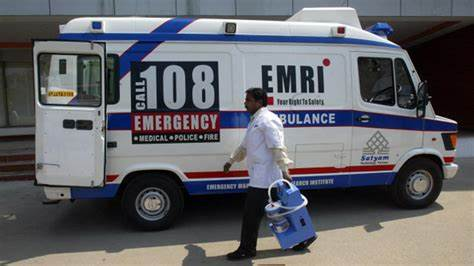ambulance: (25, 8, 465, 220)
